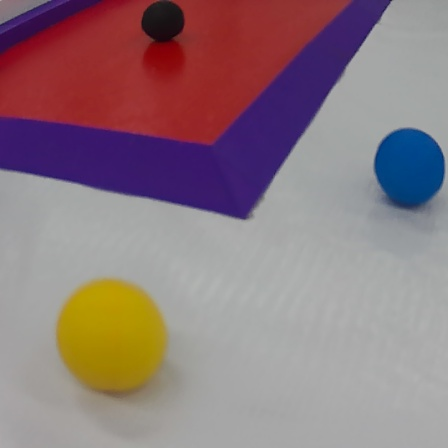black: (135, 1, 188, 45)
blue: (370, 126, 448, 209)
red_aim: (0, 0, 392, 224)
yellow: (52, 279, 171, 395)
